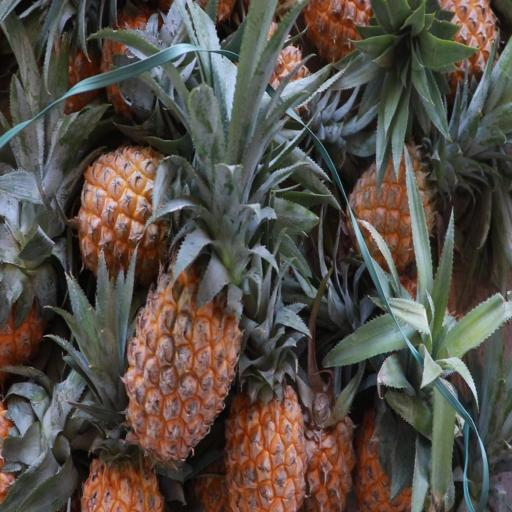Pineapple - v8 v1: (124, 229, 253, 472), (74, 135, 214, 295), (345, 133, 444, 287), (78, 366, 166, 512), (223, 367, 311, 512), (306, 376, 361, 512)
